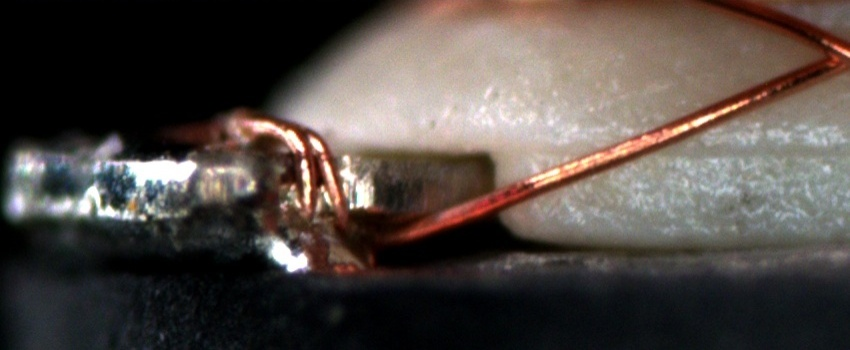CL: (797, 24, 849, 79)
DL: (512, 117, 850, 181)
TE: (224, 110, 366, 236)
